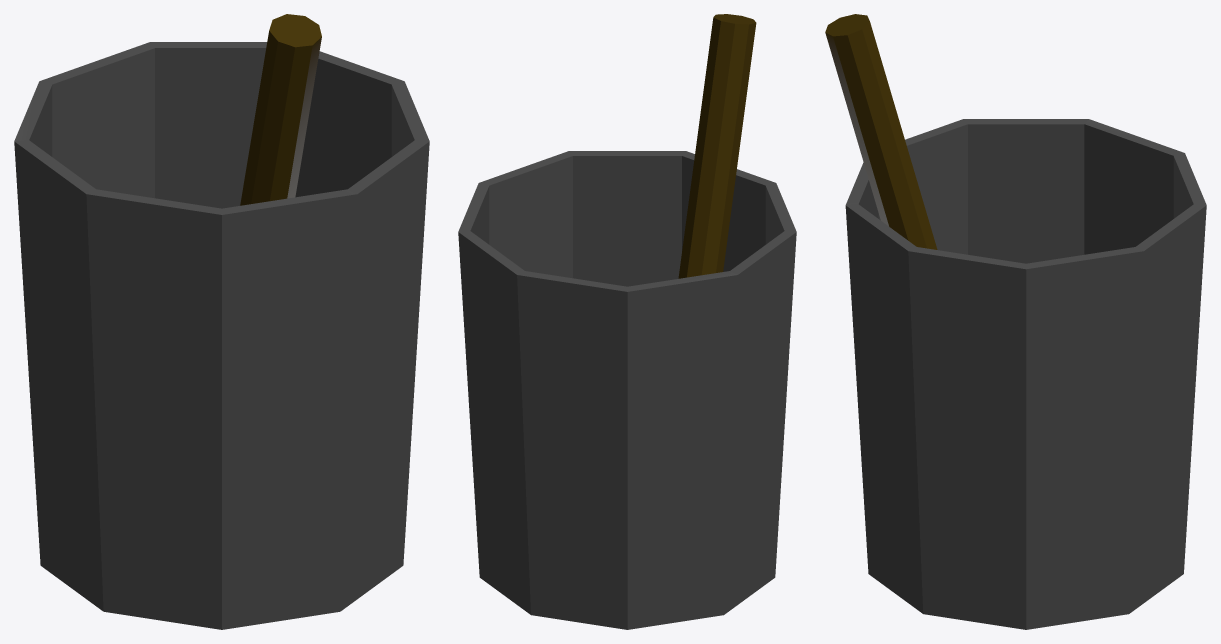
Rendered from SM_bucket.FBX.
3 renders of one model, left to right at view 1: azimuth 30°, elevation 25°; view 2: azimuth 150°, elevation 25°; view 3: azimuth 270°, elevation 25°, orthographic. The views are drawn at different scales.
Visible parts, largest first — view 1: Cylinder001; view 2: Cylinder001; view 3: Cylinder001.
Part boxes in pixels (x1=…): Cylinder001: x1=14, y1=14, x2=429, y2=629; Cylinder001: x1=458, y1=14, x2=796, y2=629; Cylinder001: x1=825, y1=14, x2=1206, y2=629.
Size of the model in its own units: 29.1 by 47.86 by 31.21.
